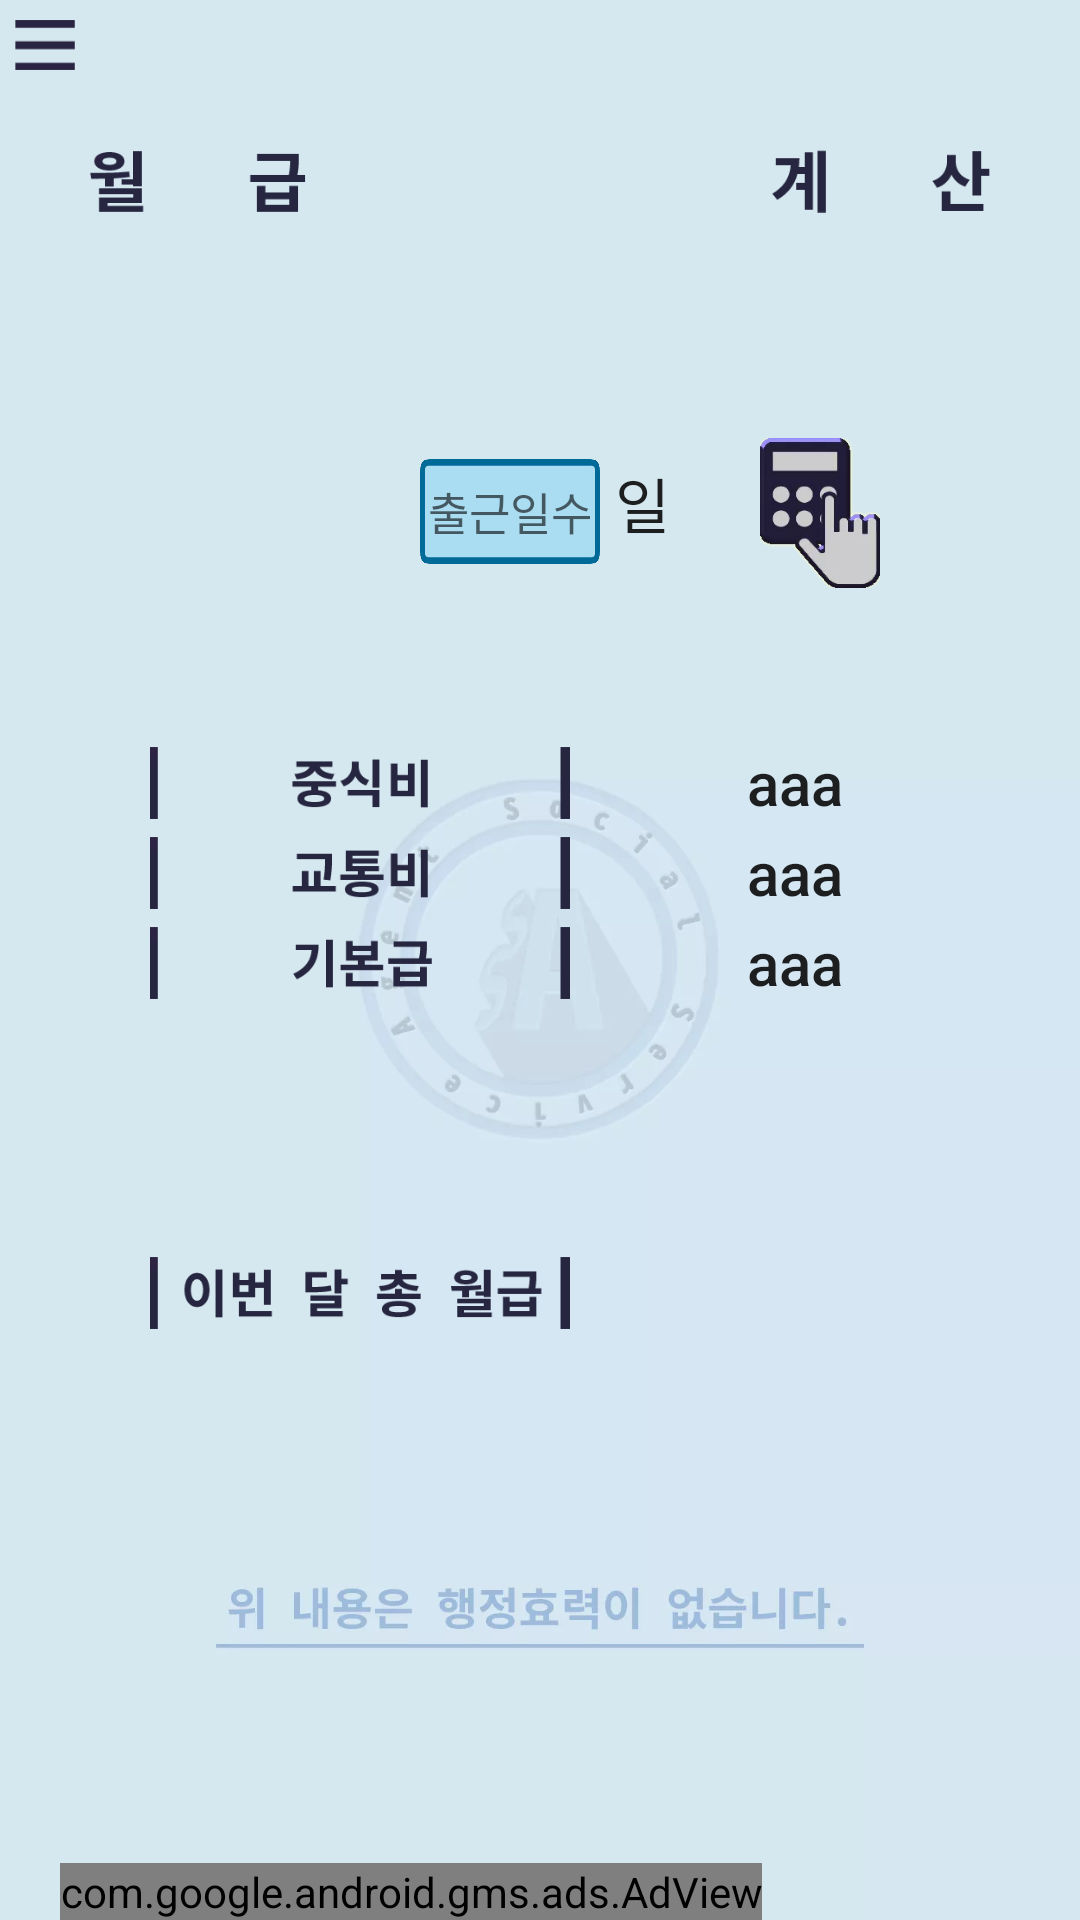

Where icons sit on this 1080w x 1920h app screen, as (x1, y1, x2, y2):
menu: (15, 20, 75, 70)
